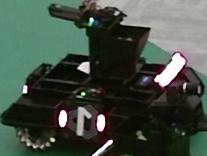armor_1: (59, 110, 106, 133)
left_1: (68, 104, 98, 140)
light: (154, 52, 187, 87)
